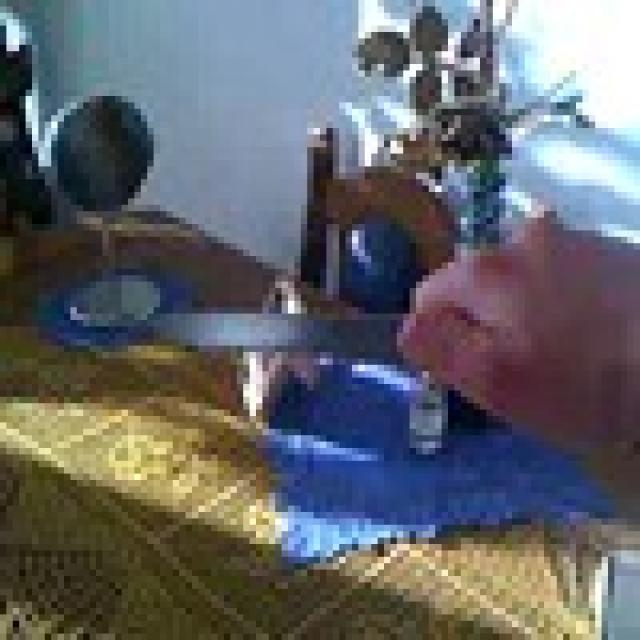Knife: (83, 301, 454, 403)
